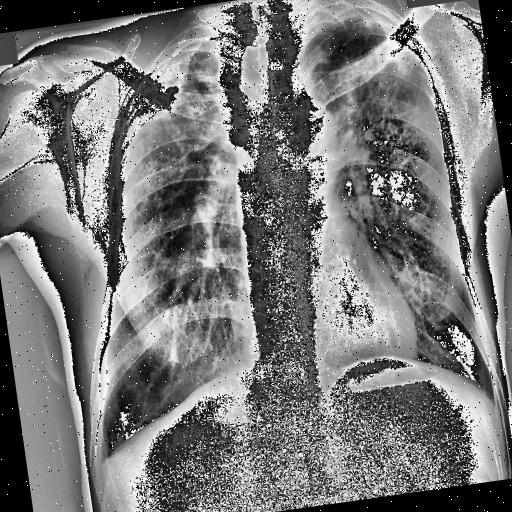0- Aortic enlargement: (270, 94, 342, 184)
1- Atelectasis: (119, 32, 221, 126)
11- Pleural thickening: (107, 47, 218, 141), (114, 32, 214, 132), (290, 0, 415, 59), (290, 0, 408, 52), (302, 2, 398, 42)
13- Pulmonary fibrosis: (108, 66, 242, 250), (308, 14, 434, 174), (314, 16, 423, 159), (116, 100, 220, 216)
5- ILD: (108, 66, 242, 250), (308, 14, 434, 174)
6- Infiltration: (104, 104, 240, 290), (312, 37, 446, 183)
7- Lung Opacity: (104, 104, 240, 290), (312, 37, 446, 183)
